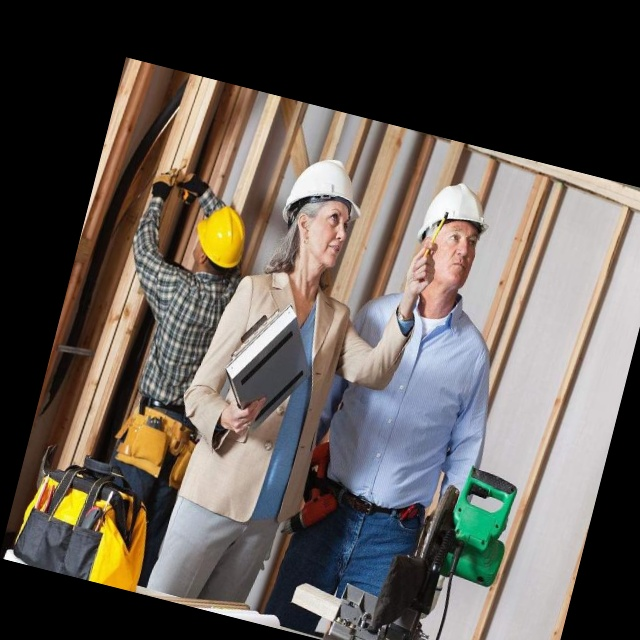Con_Casco: (281, 149, 372, 273), (410, 175, 492, 300)
